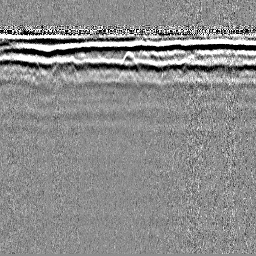cavity: (118, 49, 139, 70)
